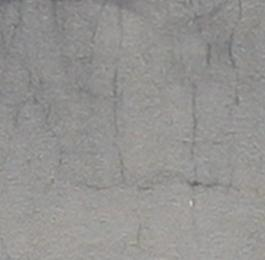termicas: (90, 2, 154, 196), (182, 0, 265, 113), (164, 155, 265, 213)
